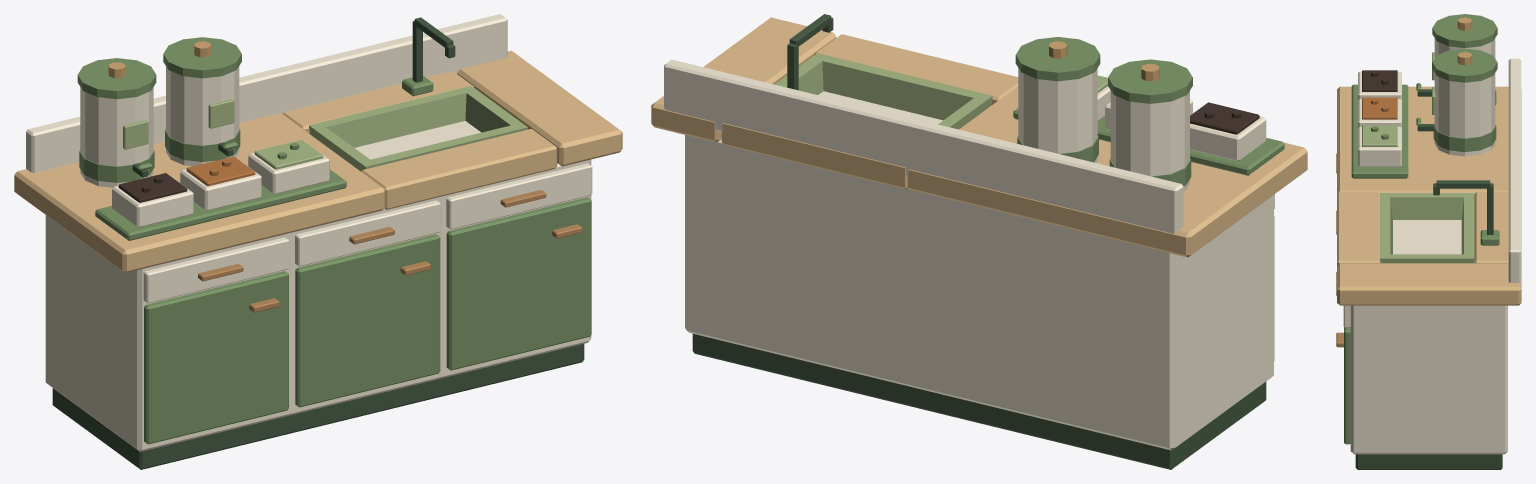
Rendered from milk_tea_workbench.fbx.
3 views of the same model, side by side, from view 1: azimuth 30°, elevation 25°; view 2: azimuth 150°, elevation 25°; view 3: azimuth 270°, elevation 25° (orthographic). The views are drawn at different scales.
Visible parts, largest first — view 1: SM_MilkTea_Workbench; view 2: SM_MilkTea_Workbench; view 3: SM_MilkTea_Workbench.
Part boxes in pixels (x1,y1,x2,y2): SM_MilkTea_Workbench: (14, 14, 622, 469); SM_MilkTea_Workbench: (651, 14, 1307, 469); SM_MilkTea_Workbench: (1336, 14, 1521, 469).
Size of the model in its own units: 2.28 by 1.51 by 0.883.
